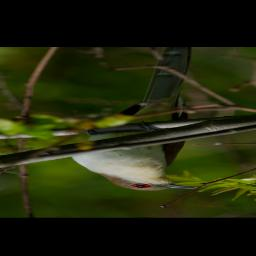Cuckoo: (65, 47, 202, 192)
